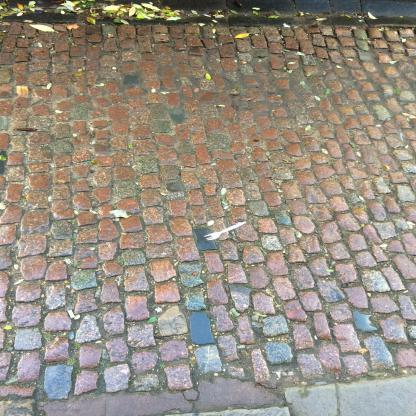plastik: (204, 222, 248, 242)
